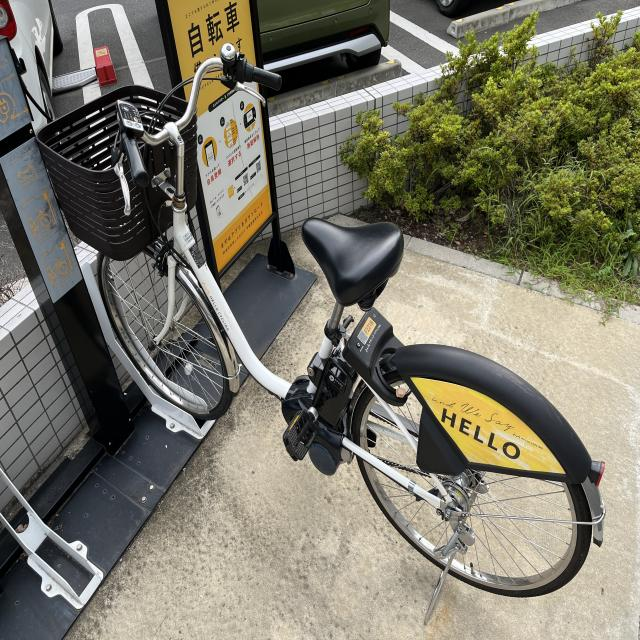basket: (31, 84, 199, 264)
battery: (313, 352, 358, 432)
